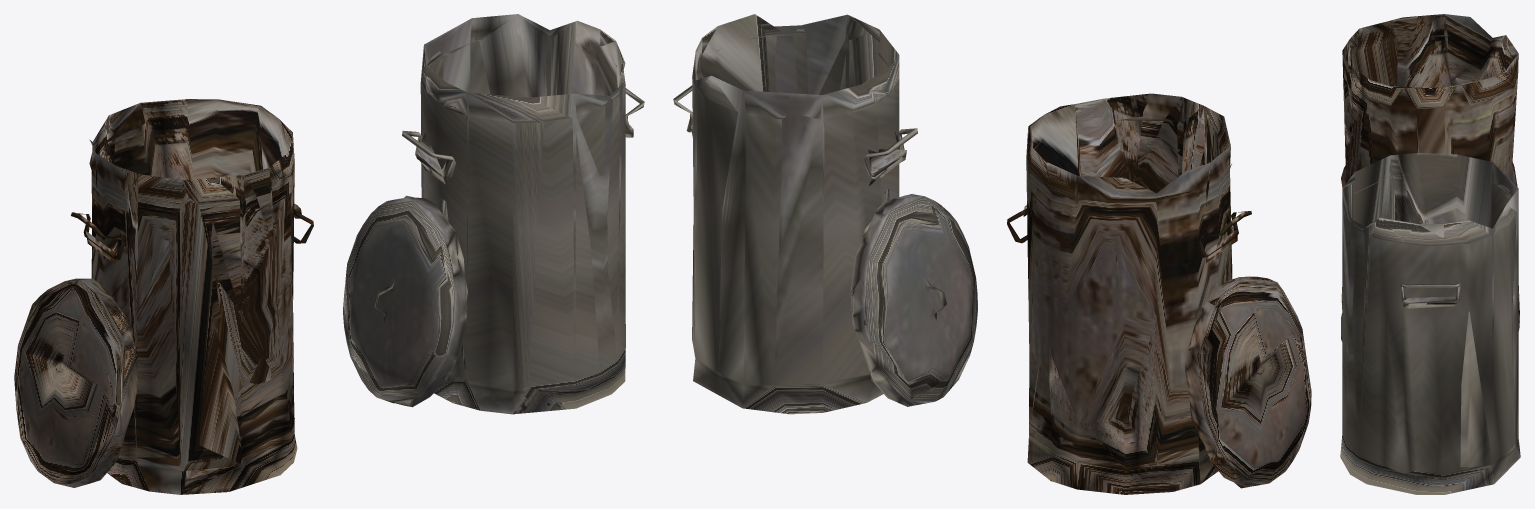
Rendered from metal_trash_can_lo.glb.
3 views of the same model, side by side, from view 1: azimuth 30°, elevation 25°; view 2: azimuth 150°, elevation 25°; view 3: azimuth 270°, elevation 25° (orthographic). The views are drawn at different scales.
Visible parts, largest first — view 1: metal_trash_can, metal_trash_can_rust, metal_trash_can_lid, metal_trash_can_rust_lid; view 2: metal_trash_can_rust, metal_trash_can, metal_trash_can_lid, metal_trash_can_rust_lid; view 3: metal_trash_can, metal_trash_can_rust, metal_trash_can_handle_right.
Part boxes in pixels (box(x1,y1,x2,y2)): metal_trash_can: box(417, 14, 633, 414); metal_trash_can_rust: box(85, 99, 301, 494); metal_trash_can_lid: box(343, 195, 467, 407); metal_trash_can_rust_lid: box(14, 278, 137, 487); metal_trash_can_rust: box(1023, 93, 1237, 494); metal_trash_can: box(691, 14, 906, 414); metal_trash_can_lid: box(850, 194, 977, 406); metal_trash_can_rust_lid: box(1185, 276, 1311, 488); metal_trash_can: box(1340, 153, 1520, 494); metal_trash_can_rust: box(1341, 14, 1519, 316); metal_trash_can_handle_right: box(1400, 283, 1460, 304).
Size of the model in its own units: 1.77 by 0.9062 by 0.5514.
Materials: 2 (2 with a texture image).
